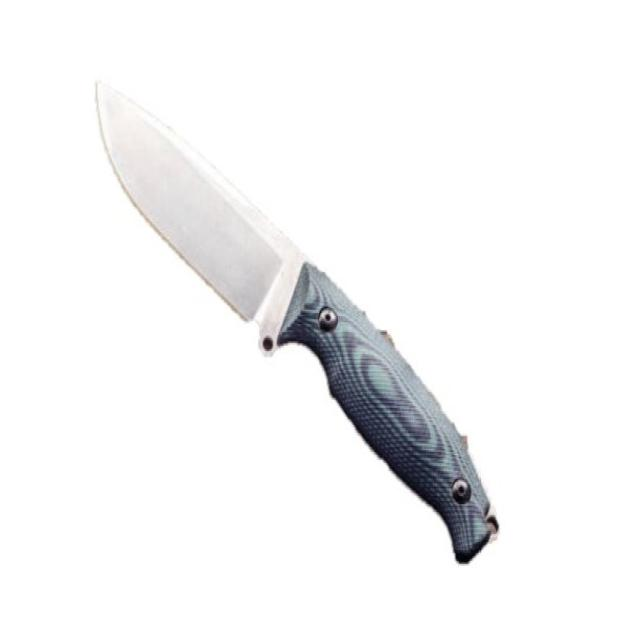knife: (92, 72, 506, 567)
